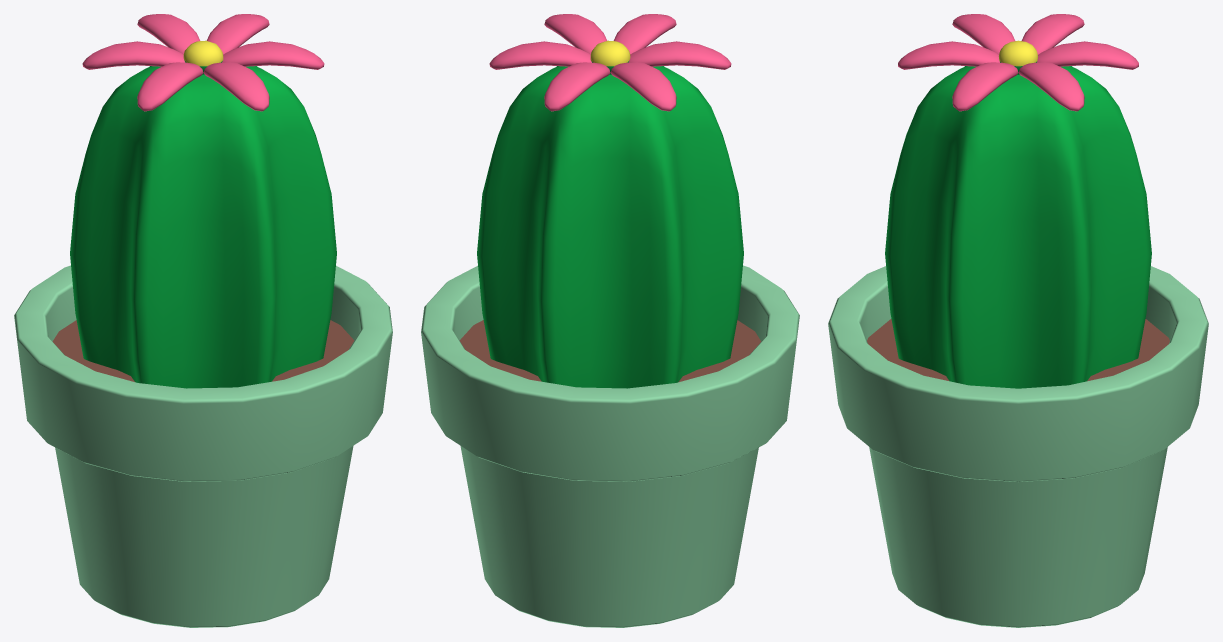
Rendered from City_20_Cactus_10.glb.
The picture shows the model from 3 angles, left to right: view 1: azimuth 30°, elevation 25°; view 2: azimuth 150°, elevation 25°; view 3: azimuth 270°, elevation 25°; orthographic projection.
Parts seen in each view (by area): view 1: City_20_Cactus_10; view 2: City_20_Cactus_10; view 3: City_20_Cactus_10.
Boxes of the visible parts, x1,y1,x2,y2 form: City_20_Cactus_10: (14, 14, 392, 627); City_20_Cactus_10: (421, 14, 799, 627); City_20_Cactus_10: (828, 14, 1208, 627).
Size of the model in its own units: 0.5505 by 0.8503 by 0.5505.
1 material, 1 textured.
